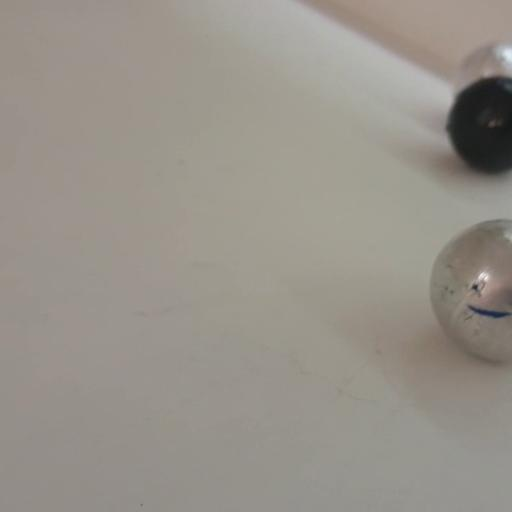alive: (429, 219, 512, 364), (453, 42, 509, 98)
dead: (446, 77, 512, 172)
